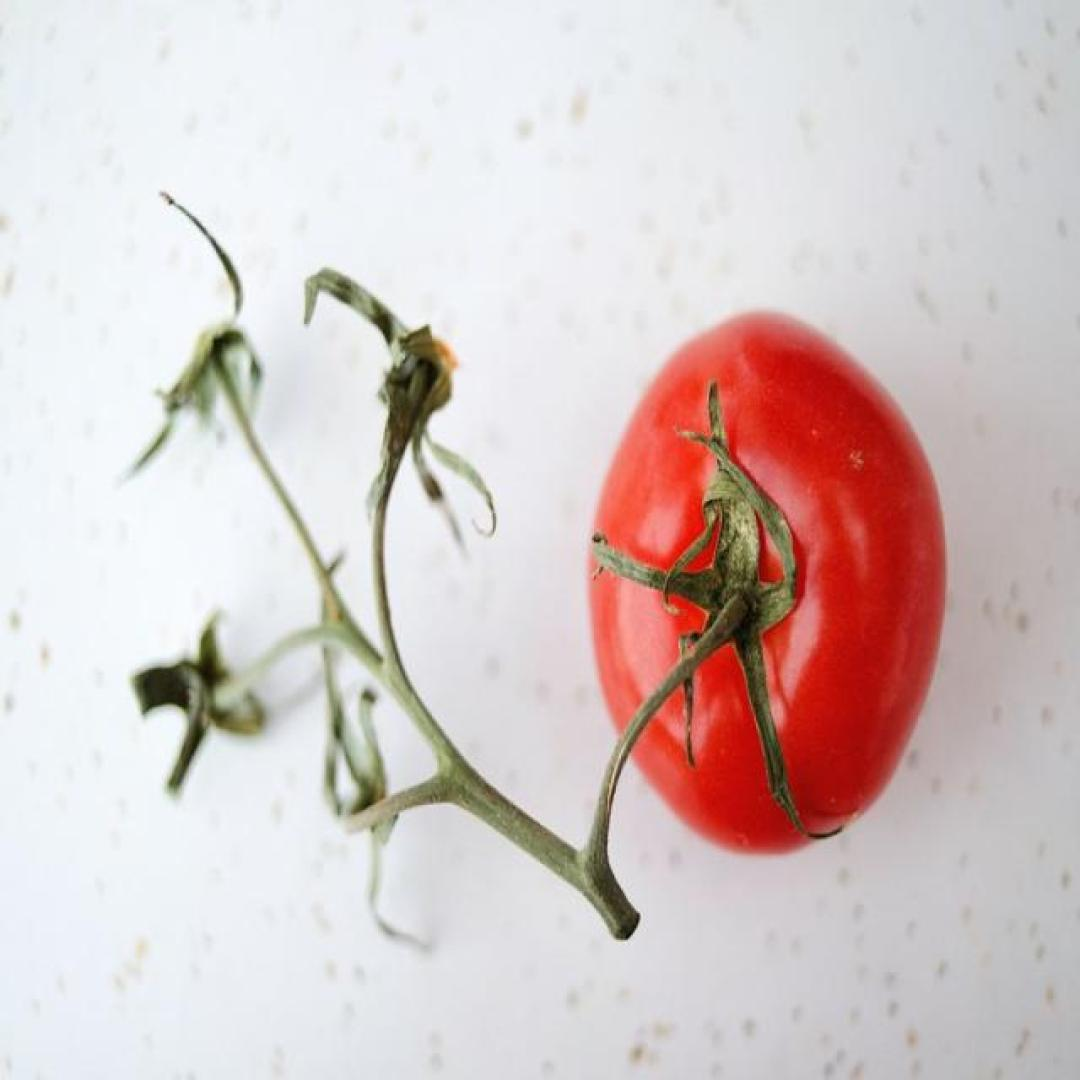matang: (588, 310, 948, 862)
